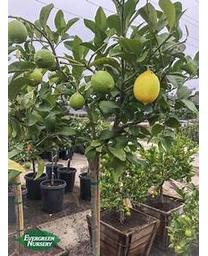lemon: (133, 73, 161, 106), (90, 71, 115, 96), (9, 21, 28, 44), (34, 50, 54, 70), (25, 67, 42, 87), (69, 95, 86, 111)
